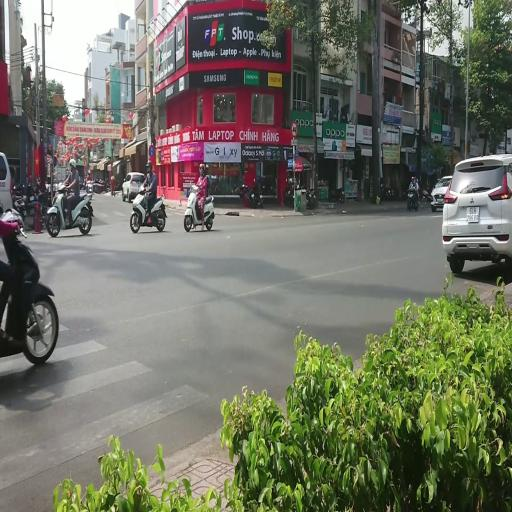bikes: (0, 205, 59, 365), (46, 182, 94, 237), (12, 181, 48, 229), (130, 185, 166, 232), (183, 182, 215, 232), (284, 178, 315, 208), (31, 186, 48, 227), (244, 178, 263, 208), (12, 193, 26, 225), (284, 178, 299, 206), (406, 186, 420, 210), (231, 182, 250, 196), (93, 177, 108, 193), (329, 187, 345, 202), (305, 188, 315, 208), (84, 179, 94, 195), (422, 188, 432, 201)
helmet: (68, 158, 76, 169), (199, 163, 205, 175), (57, 182, 64, 192), (146, 160, 152, 171), (36, 174, 41, 185), (411, 176, 414, 181), (88, 170, 90, 176), (111, 176, 114, 180)
